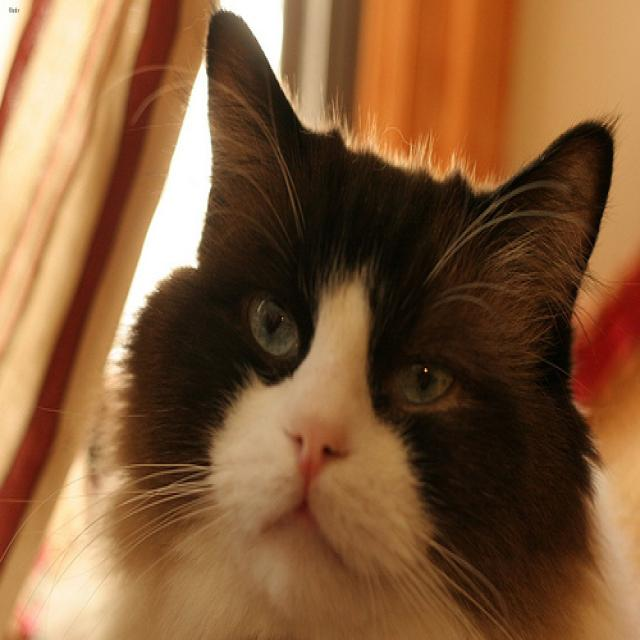cat: (197, 11, 612, 614)
